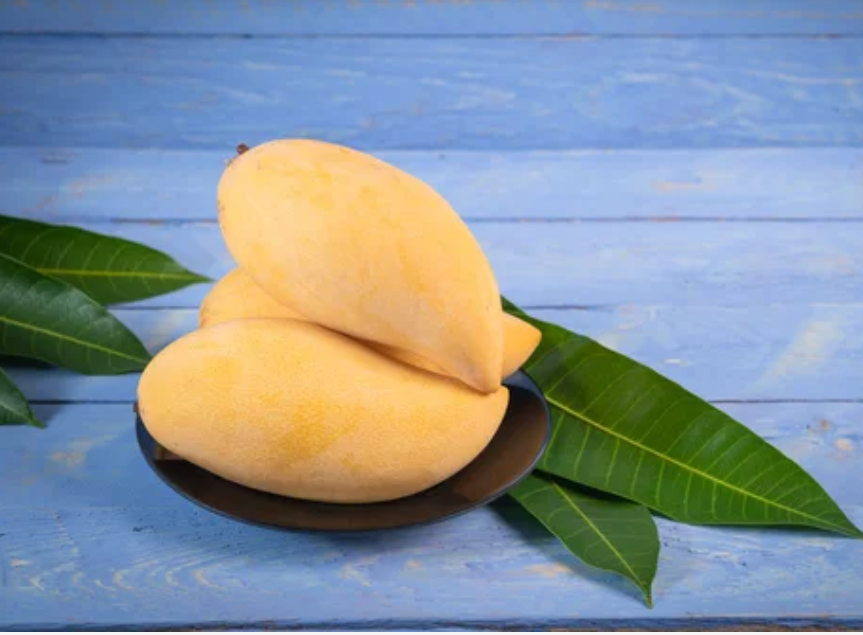mango: (217, 130, 506, 393), (136, 317, 514, 502)
